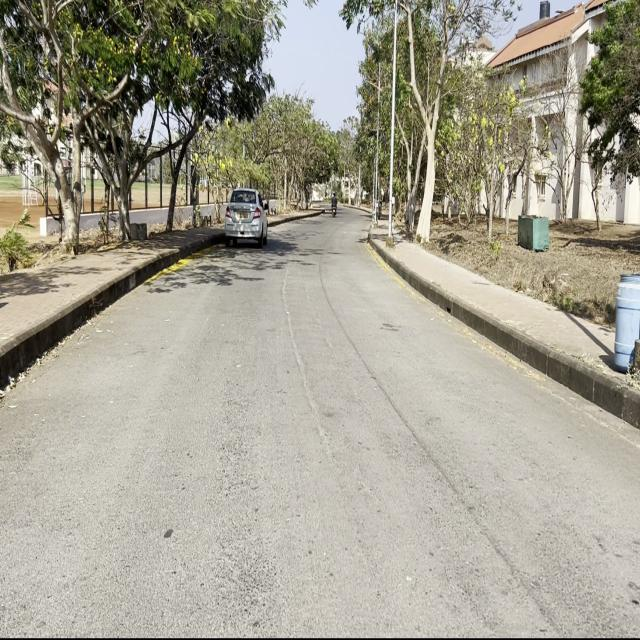Object: (226, 187, 269, 253), (330, 191, 339, 222)
Road: (3, 216, 640, 633)
